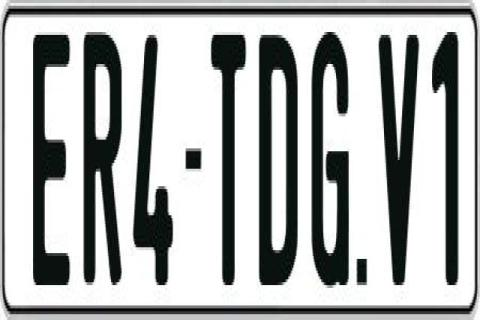0: (132, 32, 178, 282), (431, 23, 460, 276)
D: (260, 35, 298, 294)
E: (33, 29, 76, 285)
G: (310, 29, 348, 299)
R: (84, 29, 122, 279)
T: (207, 32, 244, 282)
V: (379, 32, 420, 285)
